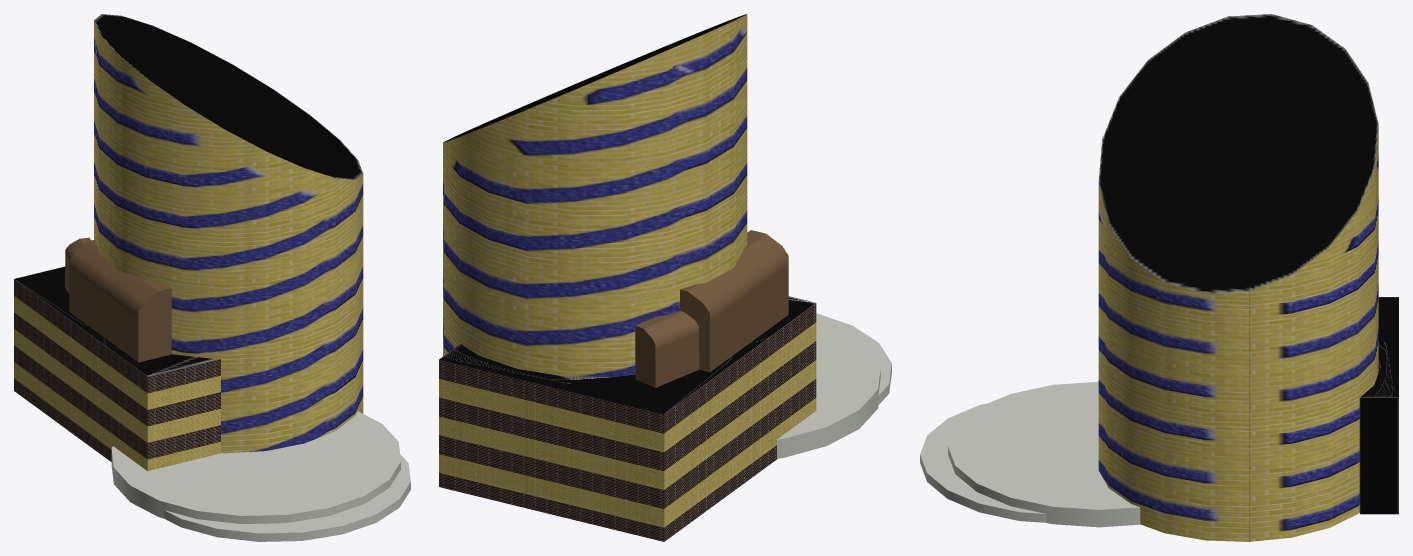
The model's file is PlanetariumHangar.fbx.
The picture shows the model from 3 angles, left to right: view 1: azimuth 30°, elevation 25°; view 2: azimuth 150°, elevation 25°; view 3: azimuth 270°, elevation 25°; orthographic projection. The views are drawn at different scales.
Visible parts, largest first — view 1: pasted__pCylinder3; view 2: pasted__pCylinder3; view 3: pasted__pCylinder3.
Boxes of the visible parts, <box> form: pasted__pCylinder3: <box>14,14,410,541</box>; pasted__pCylinder3: <box>439,14,891,541</box>; pasted__pCylinder3: <box>920,14,1398,541</box>.
Bounding box in the file's own units: 5.55 × 7.46 × 7.85.
4 materials, 2 textured.
